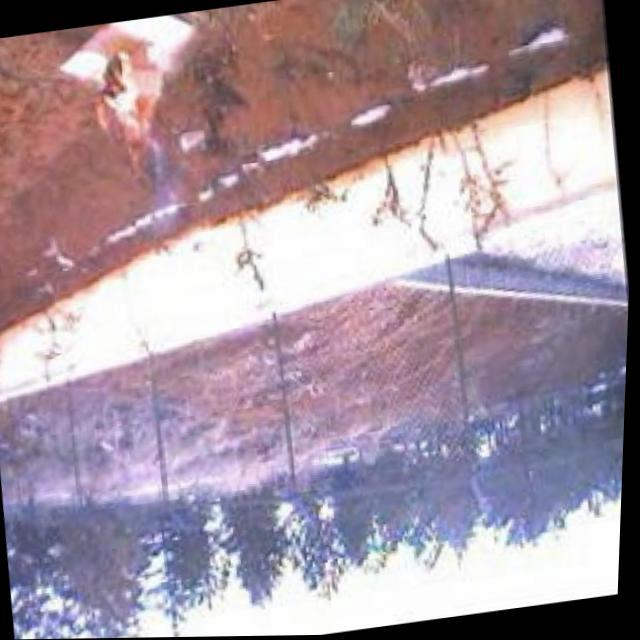fire: (81, 32, 179, 192)
